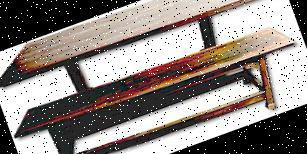Mesa: (0, 0, 306, 153)
Silla: (10, 15, 306, 153)
